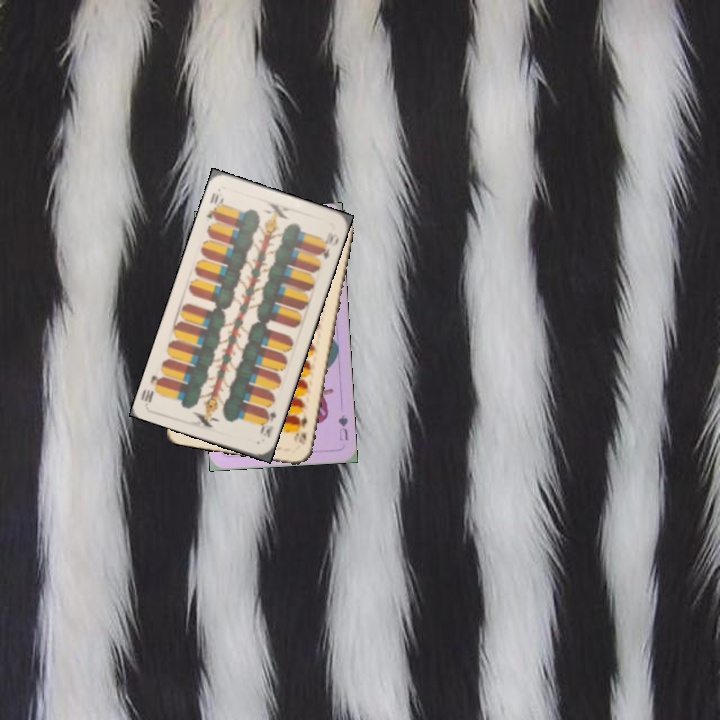E10: (256, 402, 279, 440), (201, 189, 226, 223), (292, 409, 309, 447)
GU: (334, 411, 351, 443)
